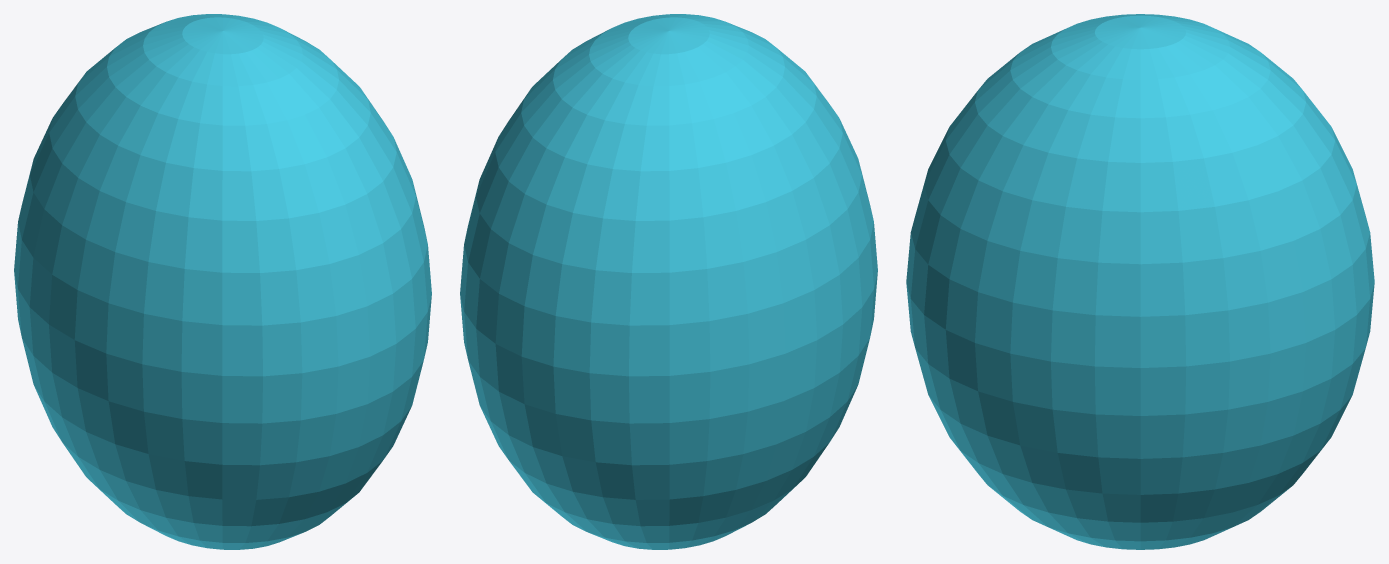
3 renders of one model, left to right at view 1: azimuth 30°, elevation 25°; view 2: azimuth 150°, elevation 25°; view 3: azimuth 270°, elevation 25°, orthographic.
Parts seen in each view (by area): view 1: 球体; view 2: 球体; view 3: 球体.
Part boxes in pixels (x1,y1,x2,y2): 球体: (14, 14, 431, 549); 球体: (460, 14, 877, 549); 球体: (906, 14, 1374, 549).
Bounding box in the file's own units: 97.67 × 134 × 112.
